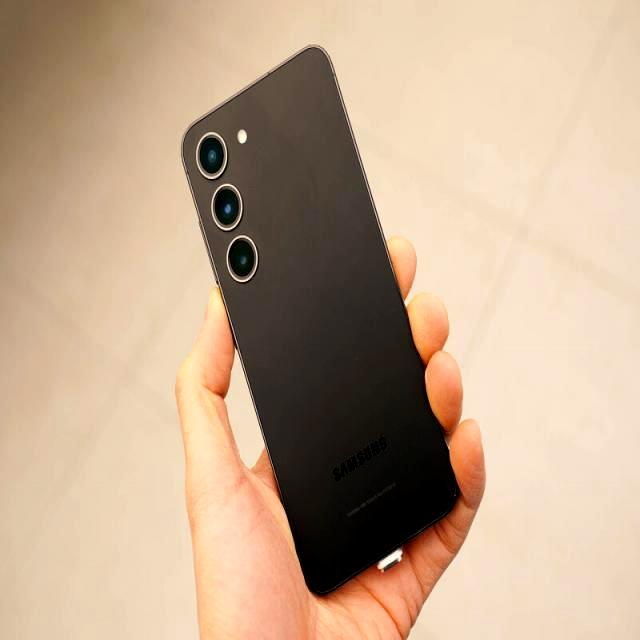lens_back: (193, 129, 230, 183), (210, 183, 245, 233), (226, 236, 260, 284)
phone: (177, 44, 461, 599)
